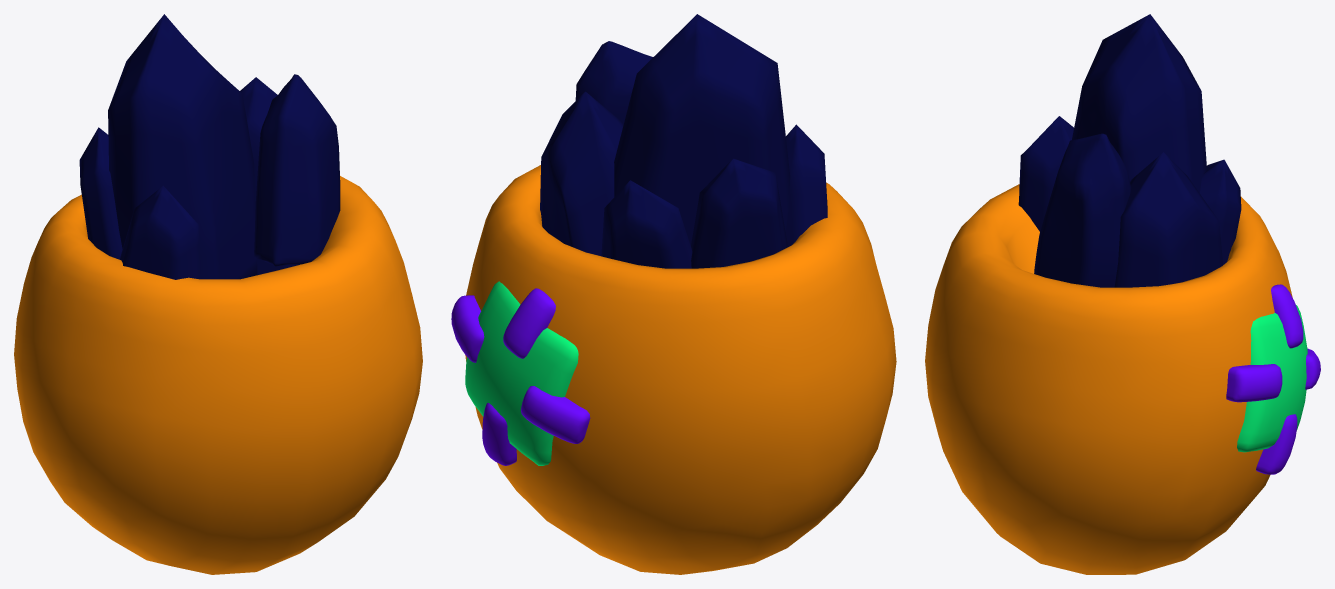
File: Bag.FBX
3 renders of one model, left to right at view 1: azimuth 30°, elevation 25°; view 2: azimuth 150°, elevation 25°; view 3: azimuth 270°, elevation 25°, orthographic. The views are drawn at different scales.
Visible parts, largest first — view 1: sac, crystal05, crystal01, crystal02, crystal04, crystal06; view 2: sac, crystal05, crystal06, detailSac02, crystal04, detailSac, crystal03, crystal02, crystal01; view 3: sac, crystal05, crystal01, crystal06, detailSac02, detailSac, crystal02, crystal03.
Boxes of the visible parts, x1,y1,x2,y2 form: sac: [14, 176, 422, 574]; crystal05: [108, 14, 257, 279]; crystal01: [254, 74, 340, 266]; crystal02: [119, 185, 200, 279]; crystal04: [79, 127, 122, 259]; crystal06: [240, 77, 299, 274]; sac: [465, 165, 896, 574]; crystal05: [614, 14, 790, 245]; crystal06: [540, 91, 623, 255]; detailSac02: [465, 281, 578, 465]; crystal04: [691, 158, 787, 268]; detailSac: [451, 288, 590, 465]; crystal03: [601, 180, 692, 268]; crystal02: [785, 124, 827, 247]; crystal01: [575, 41, 652, 123]; sac: [925, 184, 1292, 574]; crystal05: [1072, 14, 1206, 192]; crystal01: [1034, 133, 1131, 287]; crystal06: [1114, 152, 1222, 287]; detailSac02: [1237, 305, 1307, 452]; detailSac: [1226, 284, 1320, 474]; crystal02: [1018, 116, 1073, 231]; crystal03: [1199, 159, 1241, 264].
Size of the model in its own units: 1.2 by 1.72 by 1.17.
